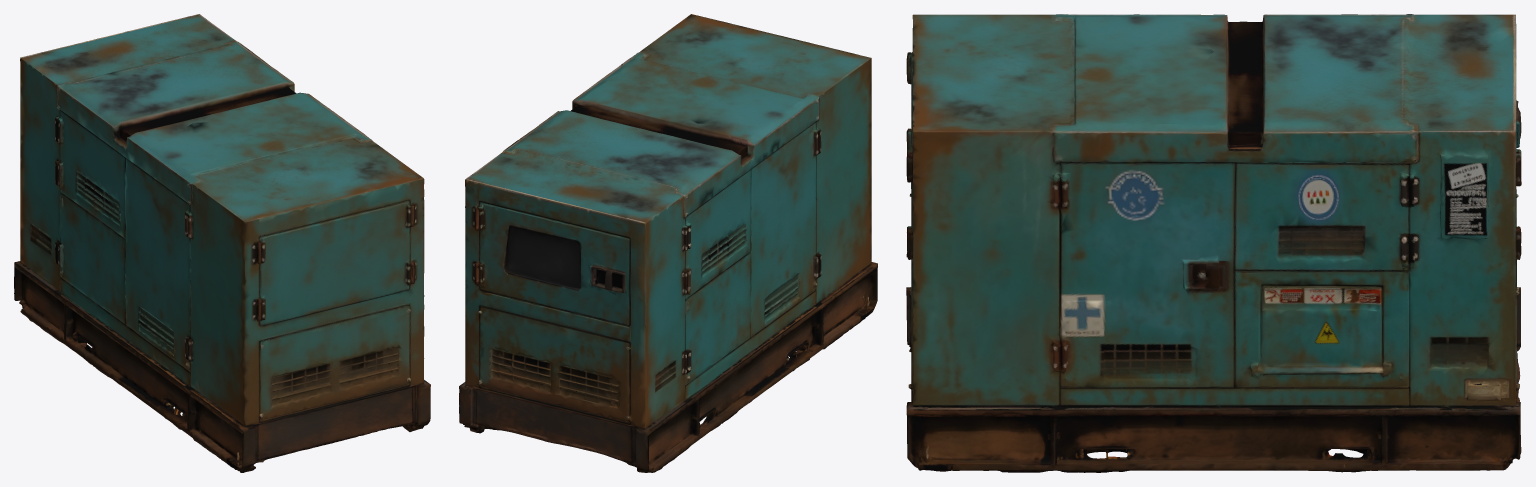
Rendered from Generador.fbx.
3 renders of one model, left to right at view 1: azimuth 30°, elevation 25°; view 2: azimuth 150°, elevation 25°; view 3: azimuth 270°, elevation 25°, orthographic. The views are drawn at different scales.
Parts seen in each view (by area): view 1: tripo_node_a533124a; view 2: tripo_node_a533124a; view 3: tripo_node_a533124a.
Part boxes in pixels (x1,y1,x2,y2): tripo_node_a533124a: (14,14,430,472); tripo_node_a533124a: (459,14,877,472); tripo_node_a533124a: (906,14,1521,472).
Bounding box in the file's own units: 0.4731 × 0.6166 × 1.
1 material, 1 textured.
